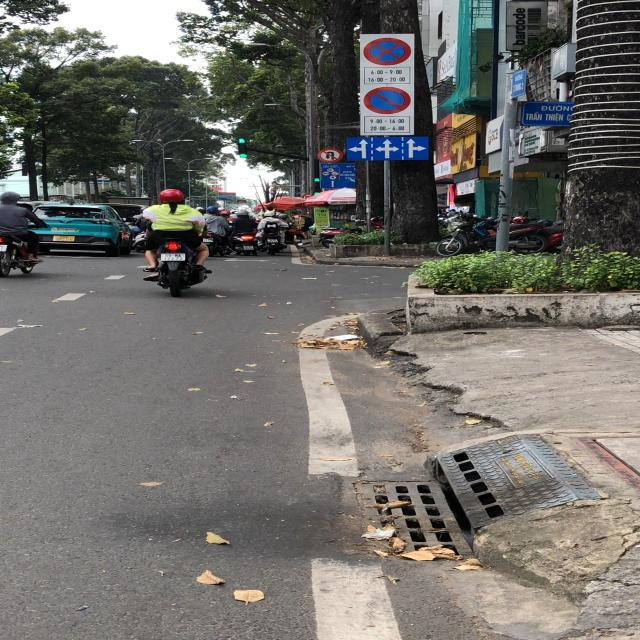Bien bao cam do xe: (364, 85, 416, 116)
Bien bao cam dung xe va do xe: (361, 36, 413, 67)
Bien bao cam quay dau xe: (316, 146, 343, 164)
